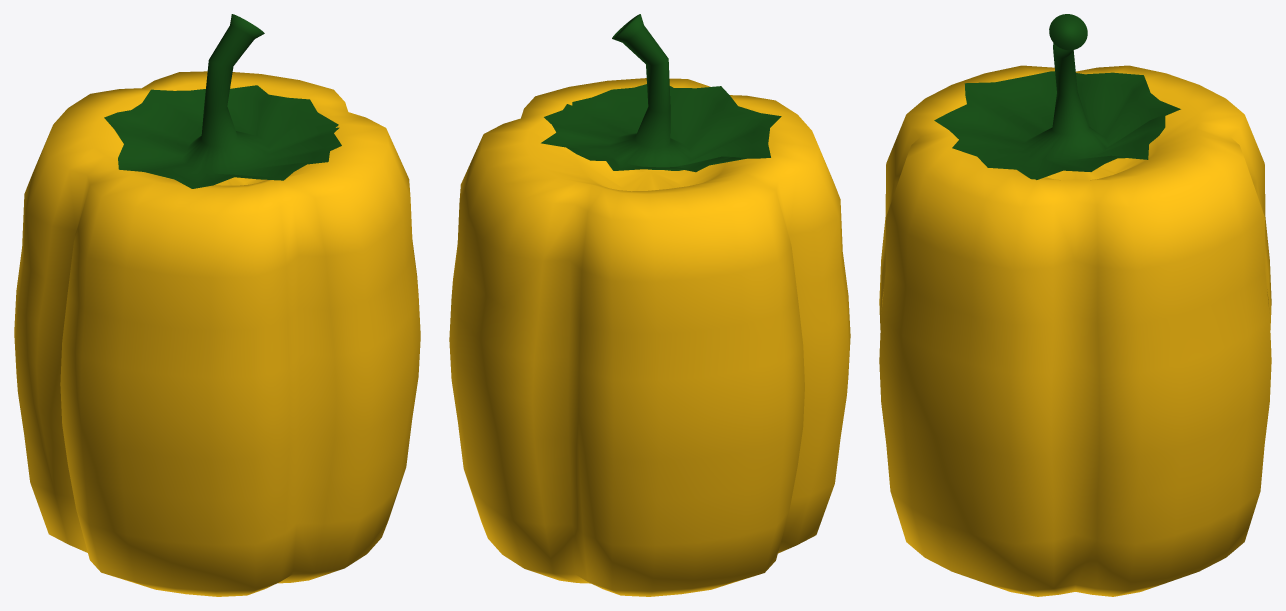
File: bulgarian_pepper.fbx
The picture shows the model from 3 angles, left to right: view 1: azimuth 30°, elevation 25°; view 2: azimuth 150°, elevation 25°; view 3: azimuth 270°, elevation 25°; orthographic projection. The views are drawn at different scales.
Visible parts, largest first — view 1: #chily.002; view 2: #chily.002; view 3: #chily.002.
Boxes of the visible parts, x1,y1,x2,y2 form: #chily.002: (14,14,420,596); #chily.002: (449,14,850,596); #chily.002: (879,14,1271,596).
Size of the model in its own units: 147 by 219 by 145.
2 materials, 1 textured.
